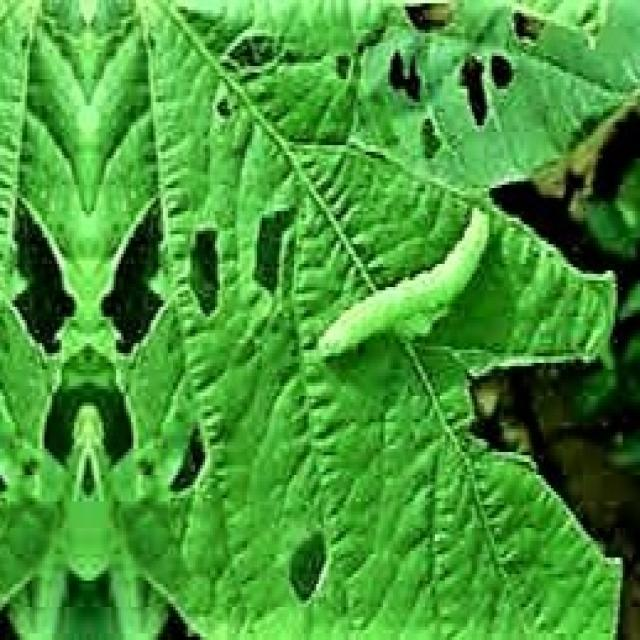Armyworm_damage: (95, 195, 167, 378), (5, 194, 71, 370), (167, 402, 226, 532), (188, 187, 233, 338), (252, 187, 302, 320), (270, 533, 348, 609), (383, 46, 424, 112), (460, 57, 494, 132), (404, 1, 462, 38), (507, 15, 548, 60)
